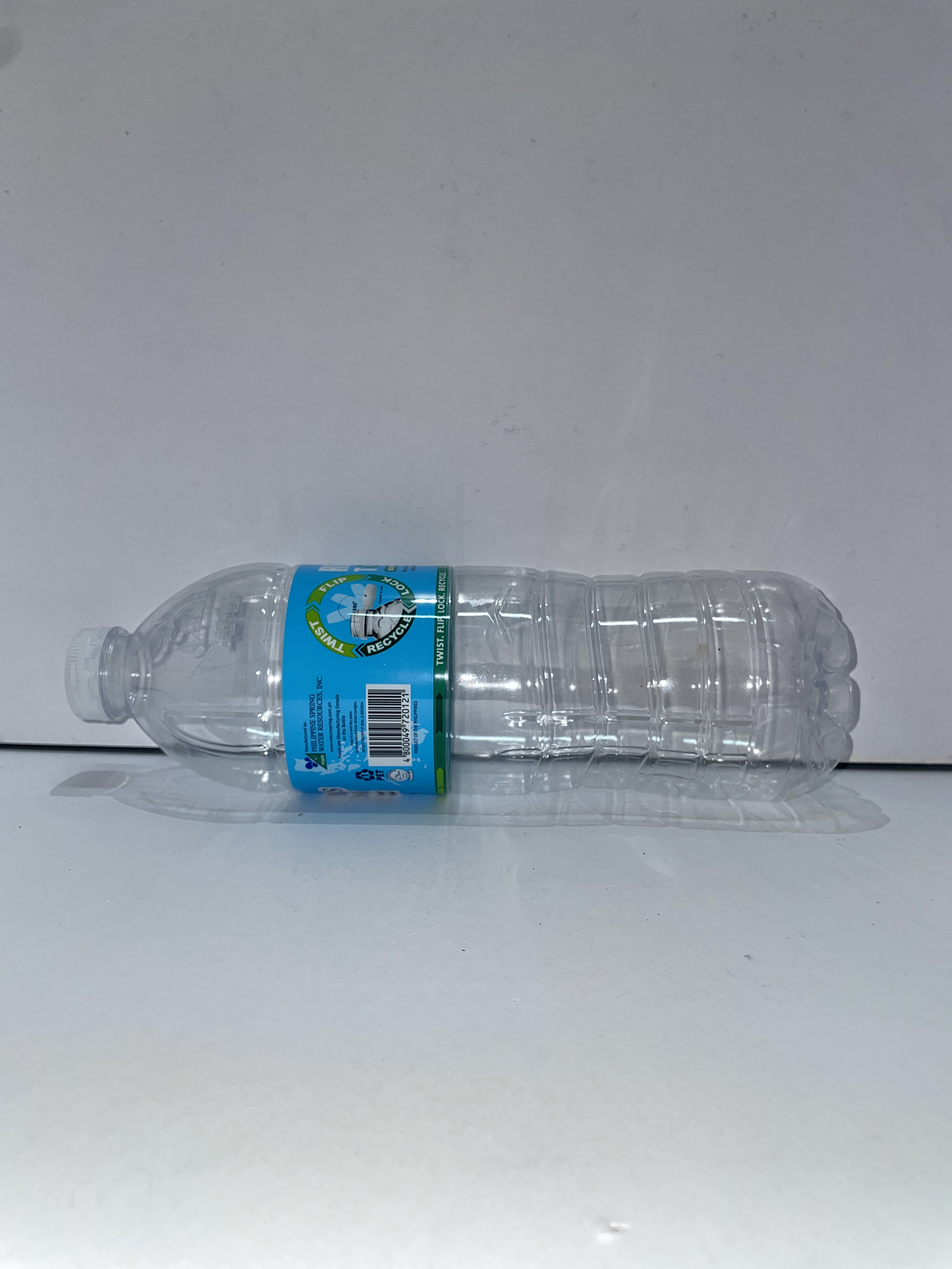Nature spring 1000ml: (65, 563, 857, 802)
